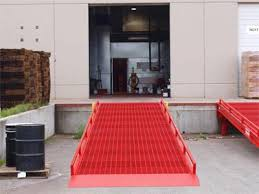Yard Ramp: (66, 99, 200, 189)
